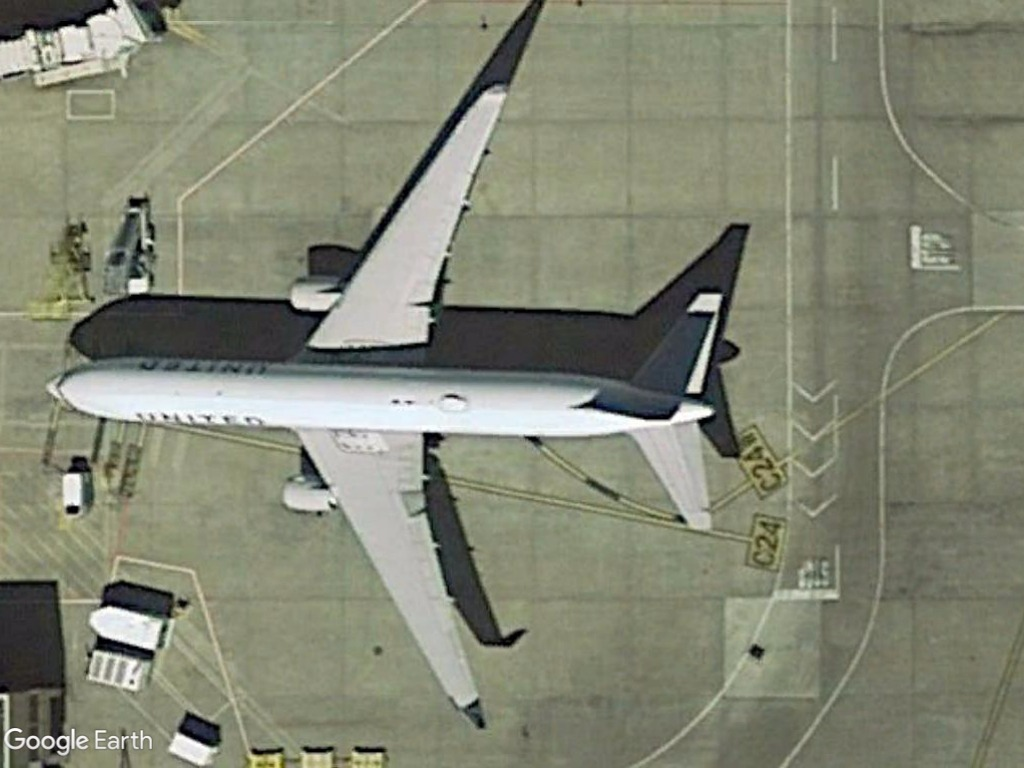airliner: (33, 74, 754, 726)
